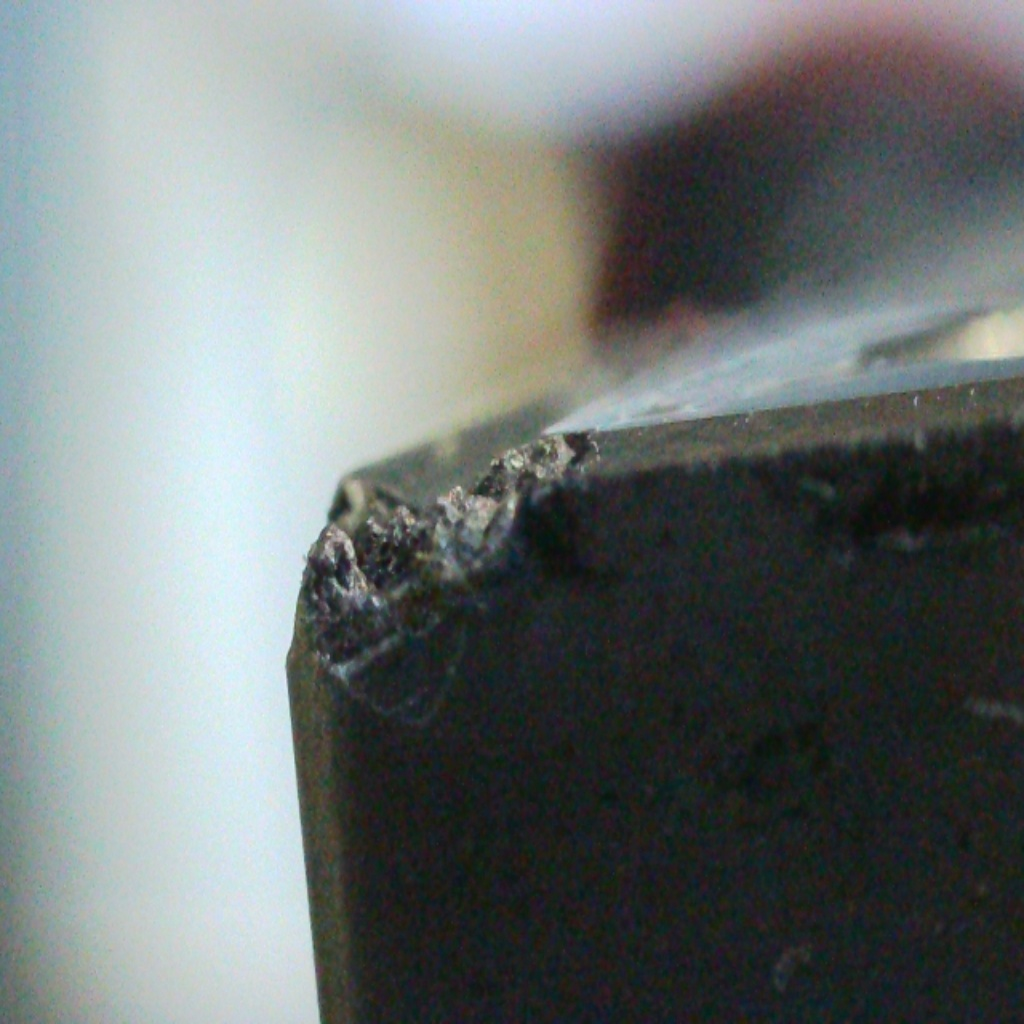flank_wear: (299, 479, 518, 624)
